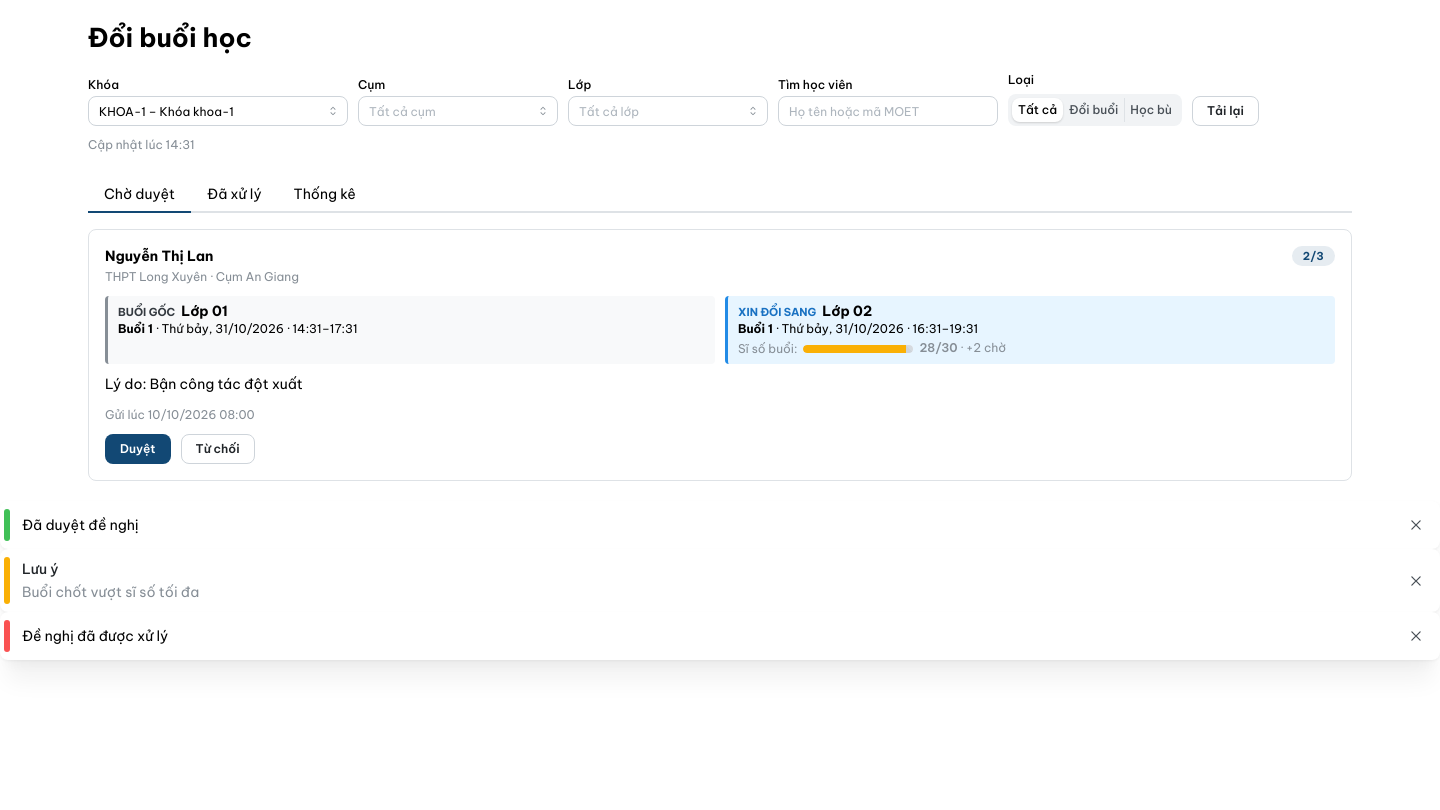
Scenario: Màn duyệt đổi buổi › Từ chối: không ghi chú (hoặc <5 ký tự) thì nút gửi disabled
Click the button "Từ chối" at (218, 449), box x1=181 y1=434 x2=255 y2=464
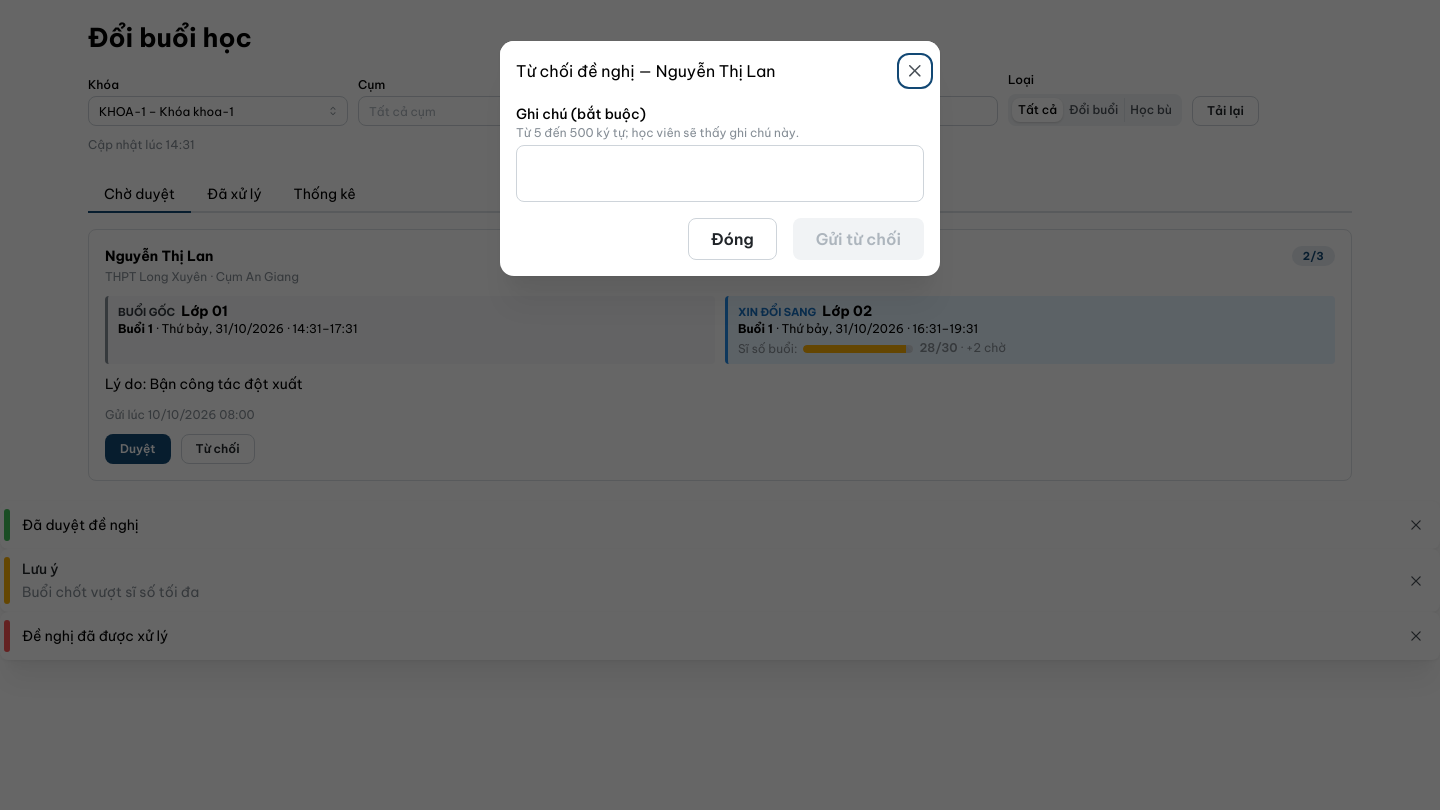
Result: the button "Gửi từ chối" is disabled at x1=793 y1=218 x2=924 y2=260
Type "abcd" into the text box labelled "Ghi chú (bắt buộc)" at (720, 173), box x1=516 y1=145 x2=924 y2=202
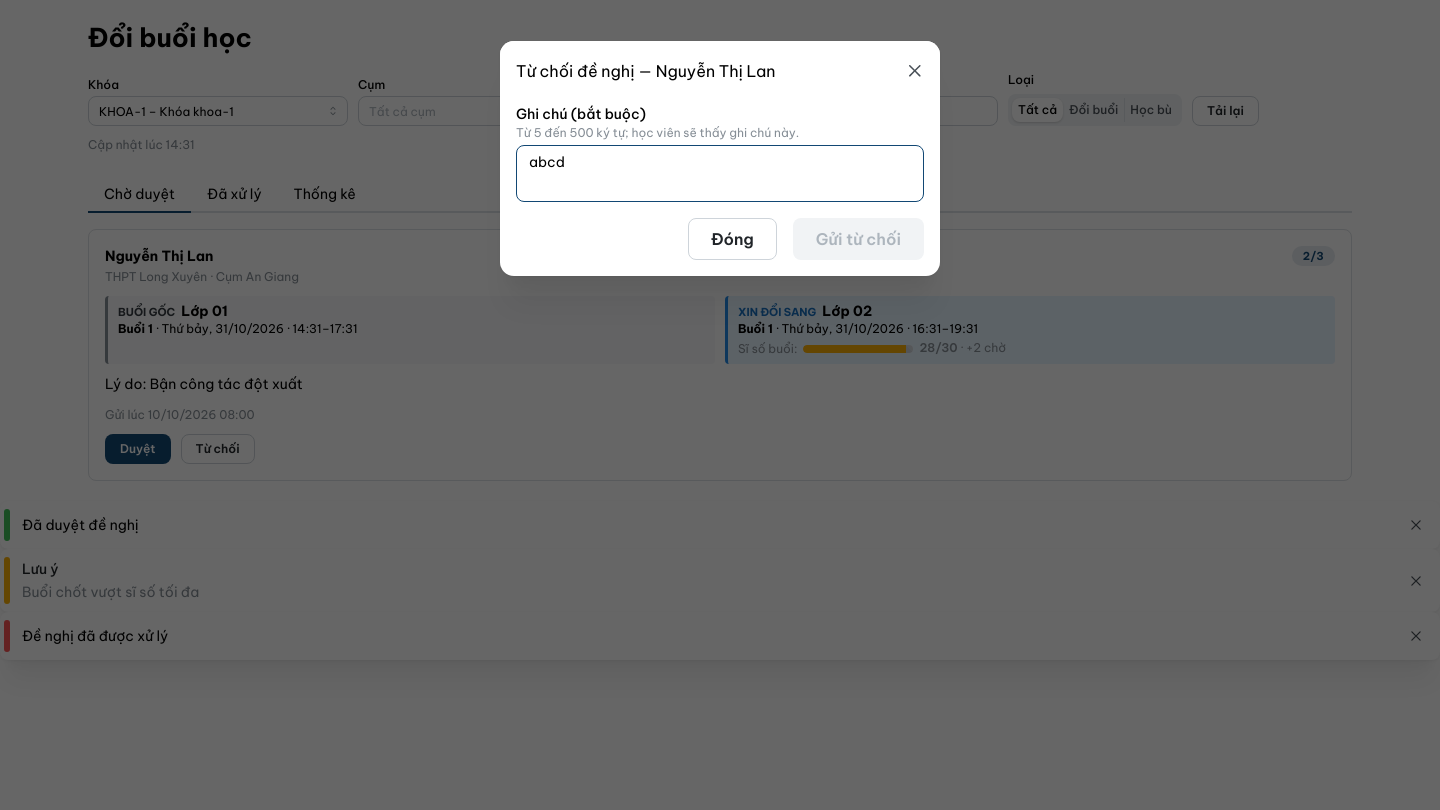
Result: the button "Gửi từ chối" is disabled at x1=793 y1=218 x2=924 y2=260
Type "e" into the text box labelled "Ghi chú (bắt buộc)" at (720, 173), box x1=516 y1=145 x2=924 y2=202
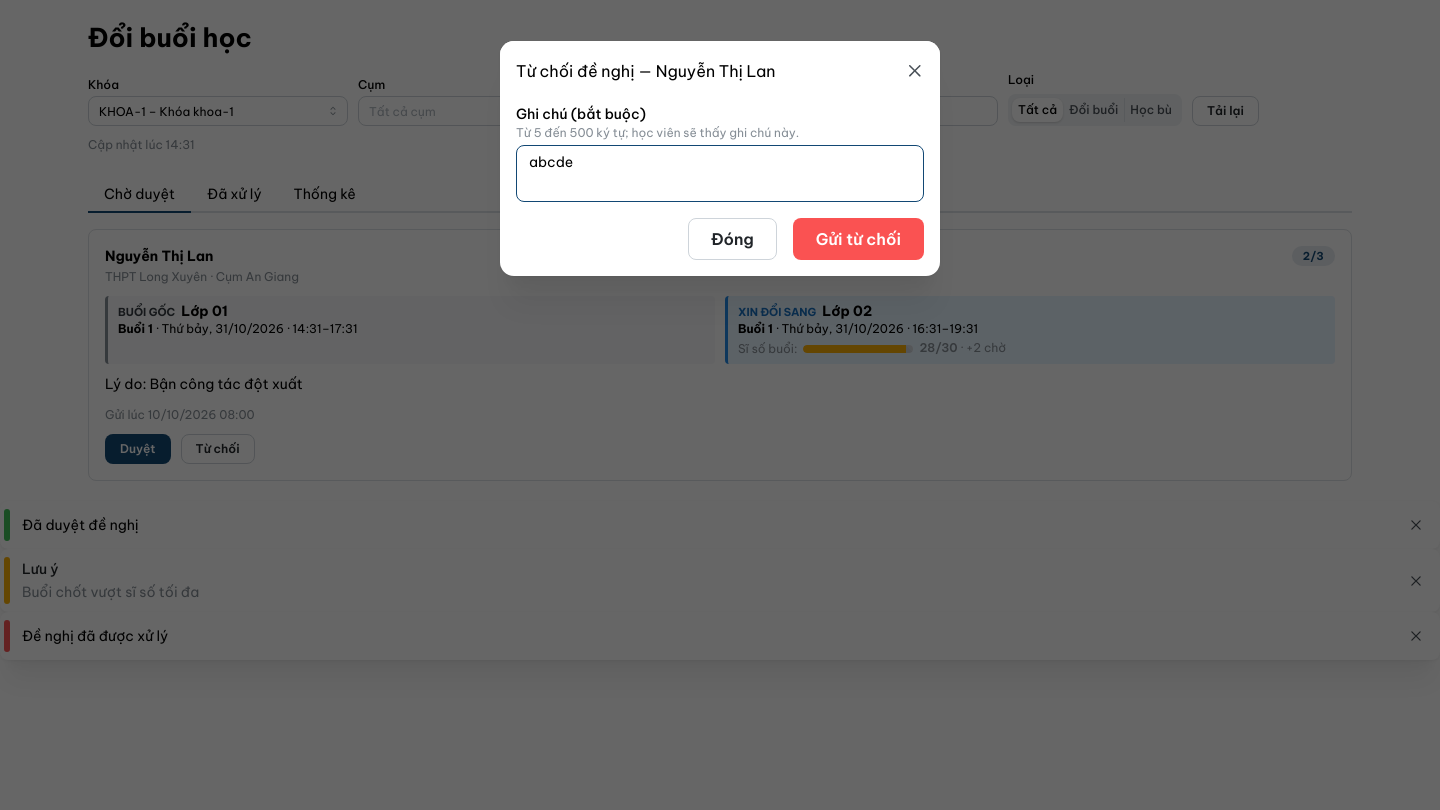
Result: the button "Gửi từ chối" is enabled at x1=793 y1=218 x2=924 y2=260
